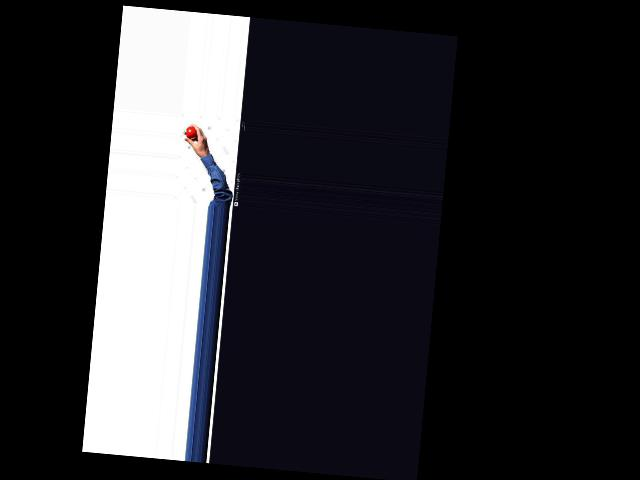tomato: (186, 125, 197, 138)
